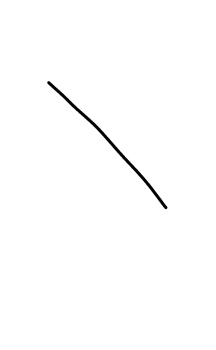Line: (43, 77, 170, 213)
